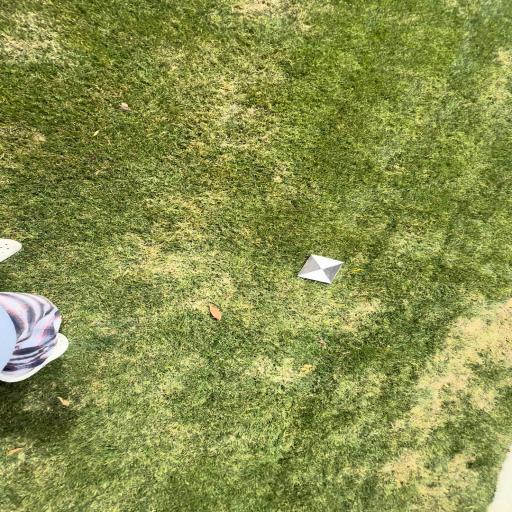target: (298, 255, 345, 284)
